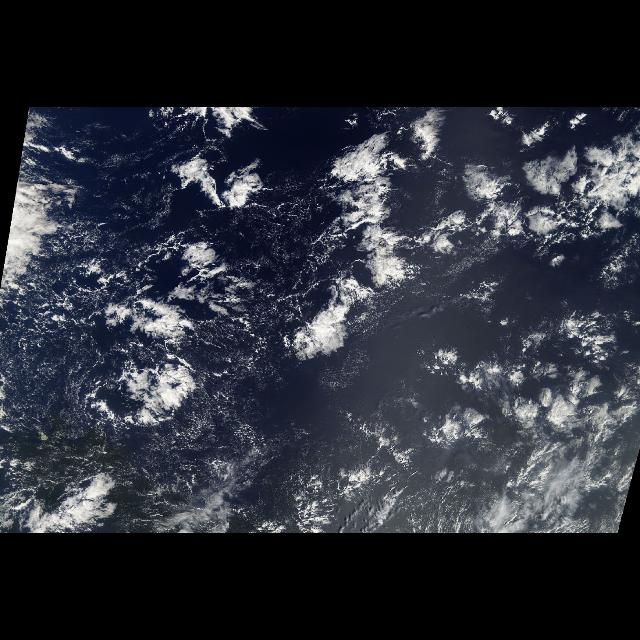Flower: (98, 114, 640, 472)
Gravel: (4, 242, 302, 534)
